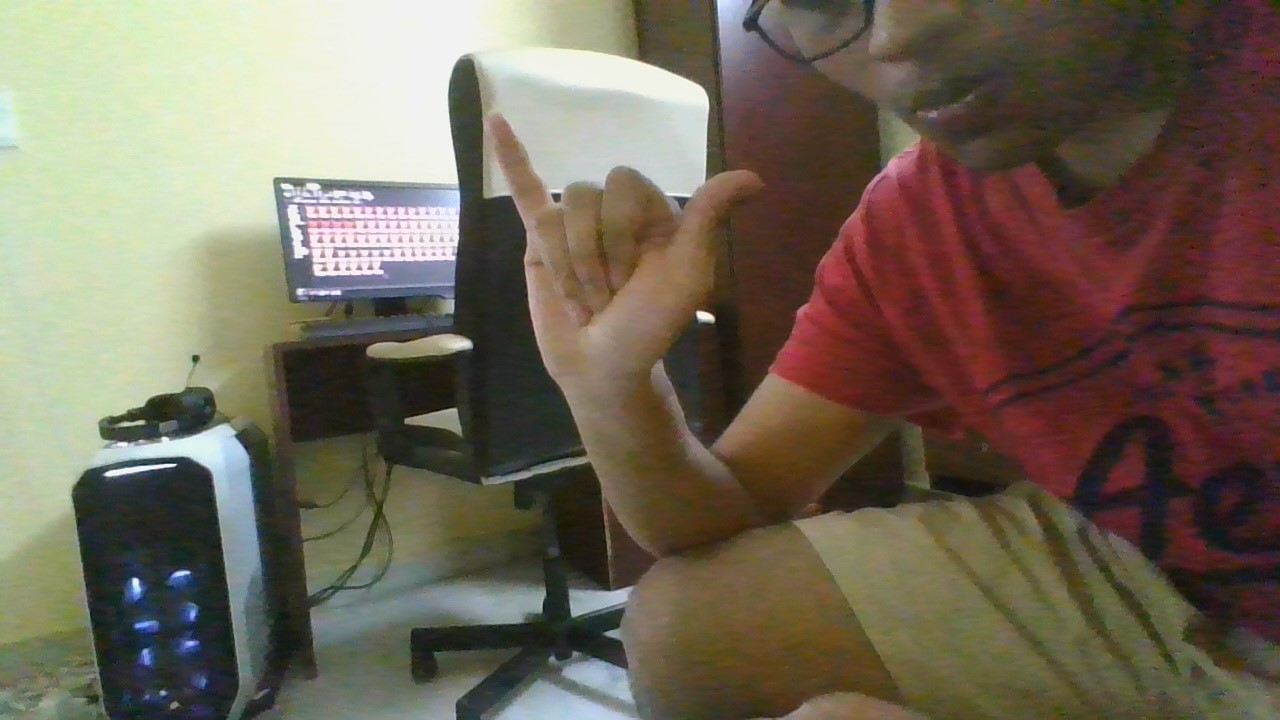y: (480, 106, 770, 388)
